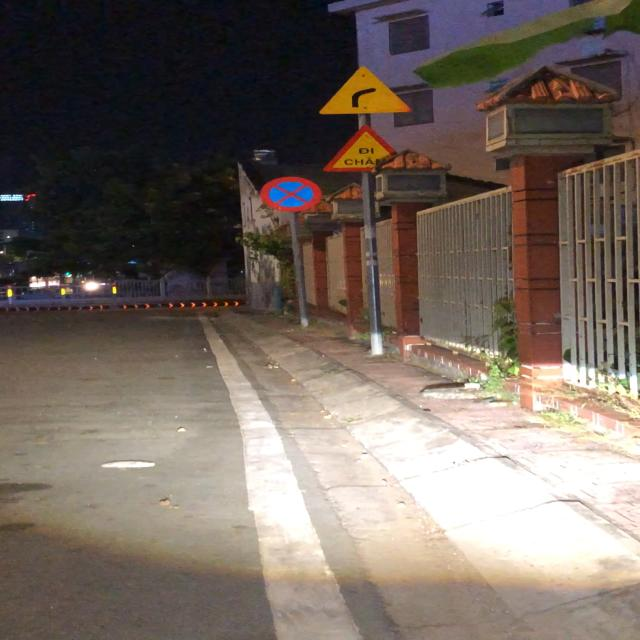Bien bao cam dung xe va do xe: (258, 175, 324, 213)
Bien bao cho ngoat nguy hiem: (317, 65, 412, 116)
Bien bao di cham: (322, 122, 409, 173)
